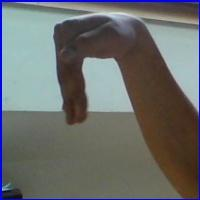del: (42, 11, 159, 134)
